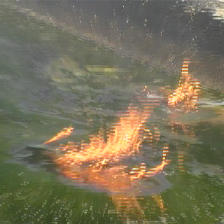fire_h: (48, 86, 174, 181), (170, 57, 201, 110), (44, 124, 74, 144)
